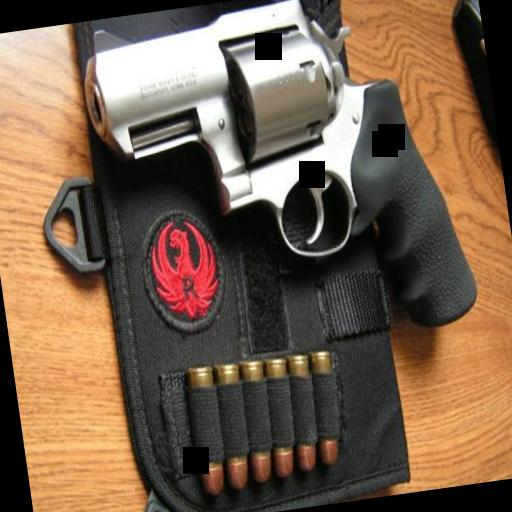Handgun: (69, 0, 482, 372)
